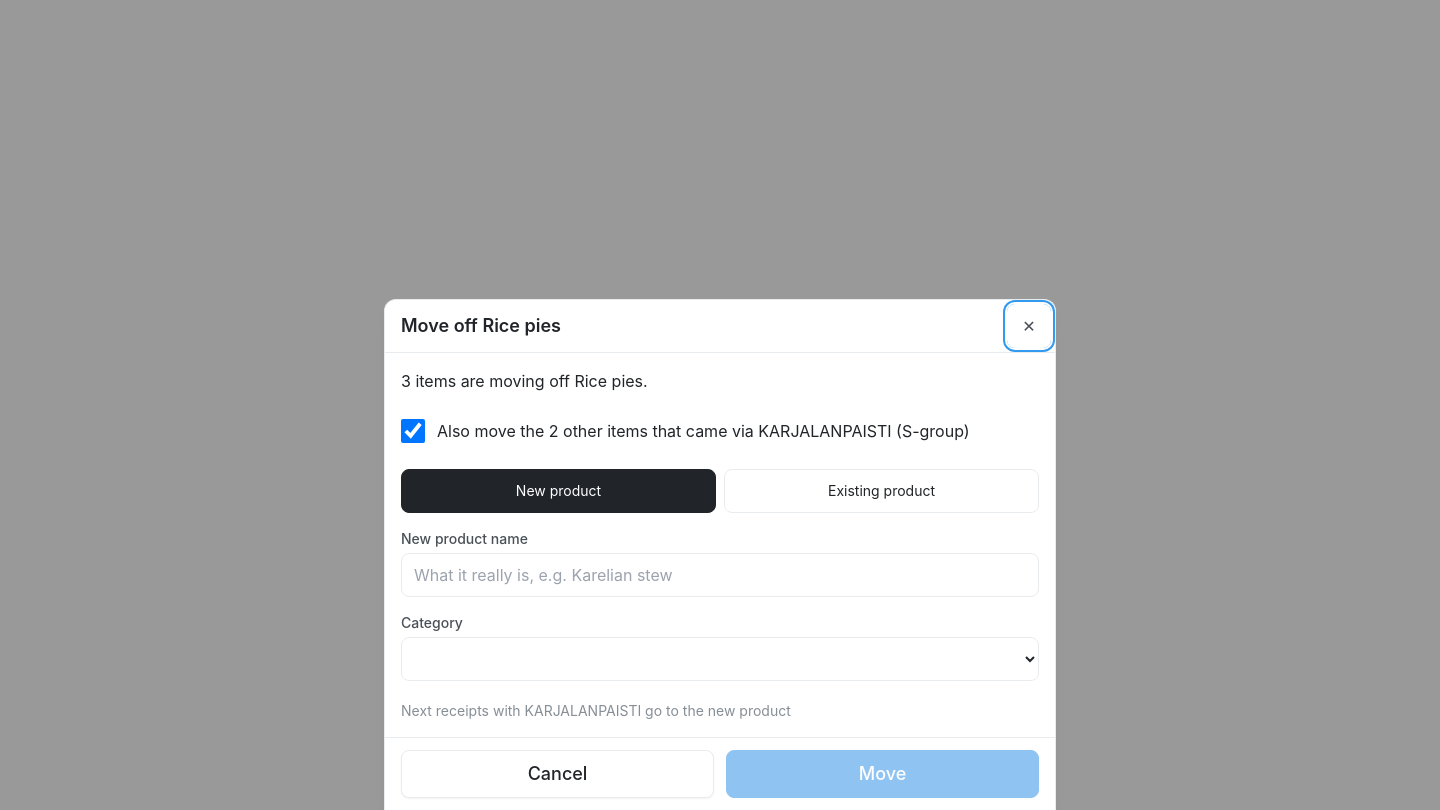
Test: SplitSheet › moves to an existing product picked with the product search
The width and height of the screenshot is (1440, 810).
Click the radio button labelled "Existing product": coordinates (882, 491) [724, 469, 1039, 513]
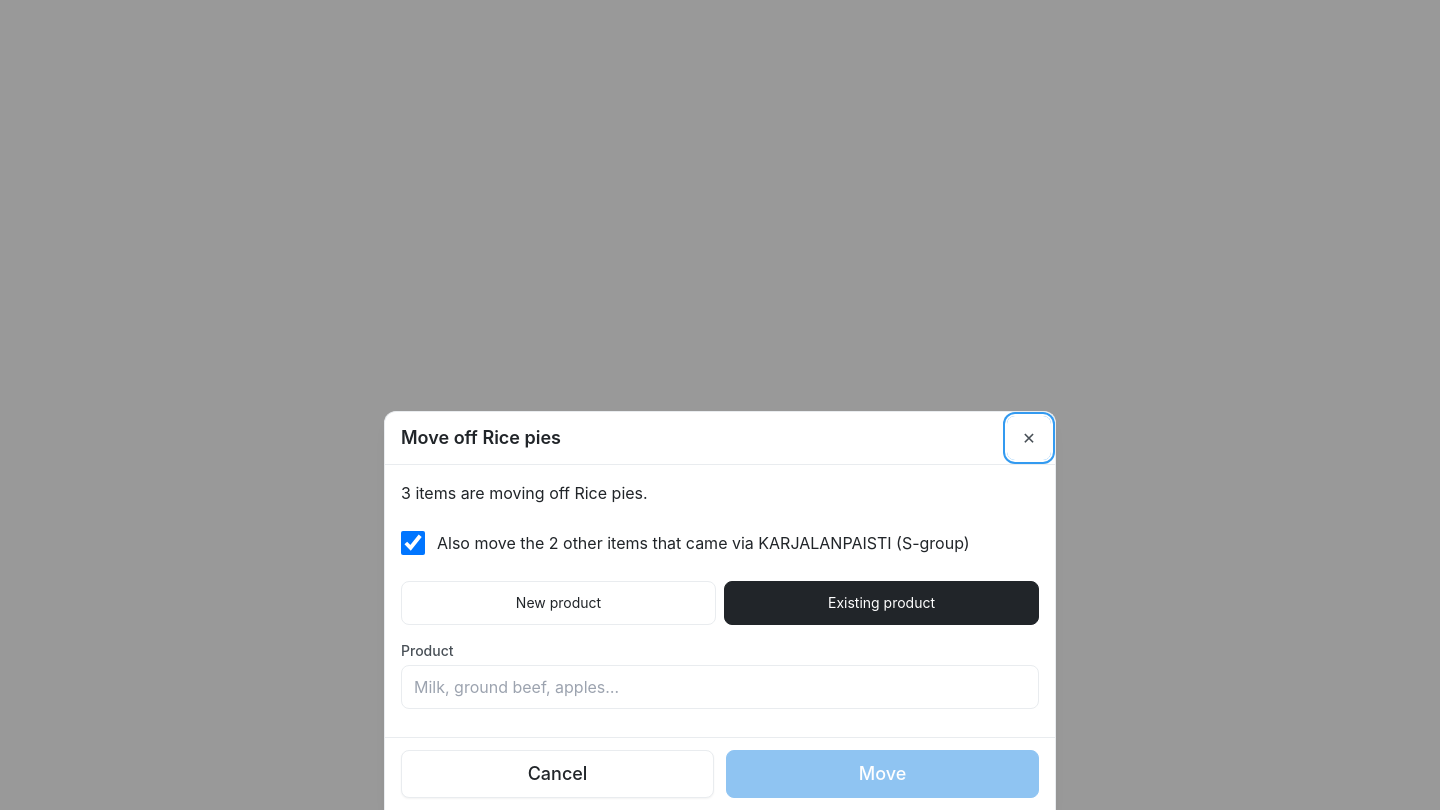
In the search field labelled "Product": coordinates (720, 687) [401, 665, 1039, 709], type "pie"
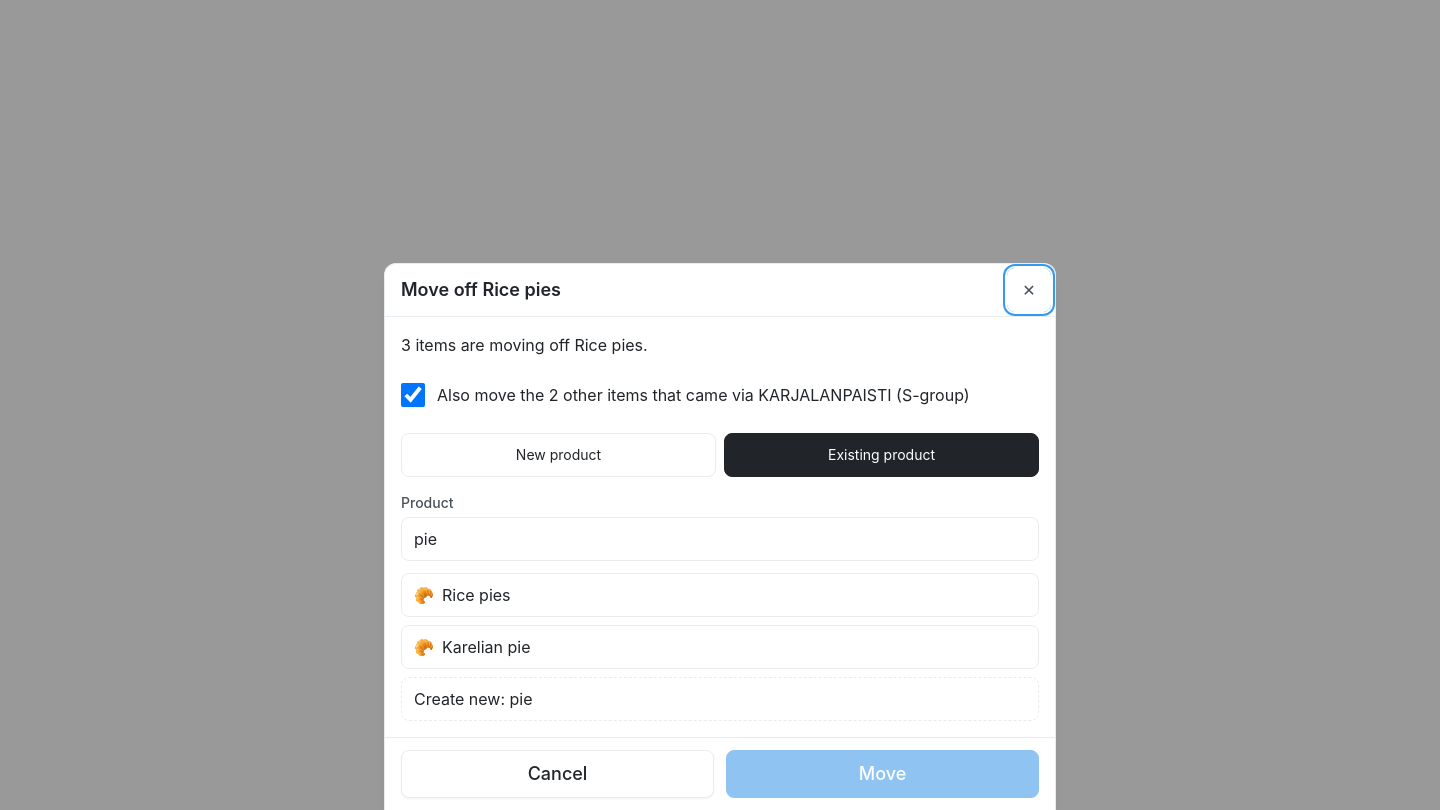
Click the button "🥐 Karelian pie": coordinates (486, 647) [401, 625, 1039, 669]
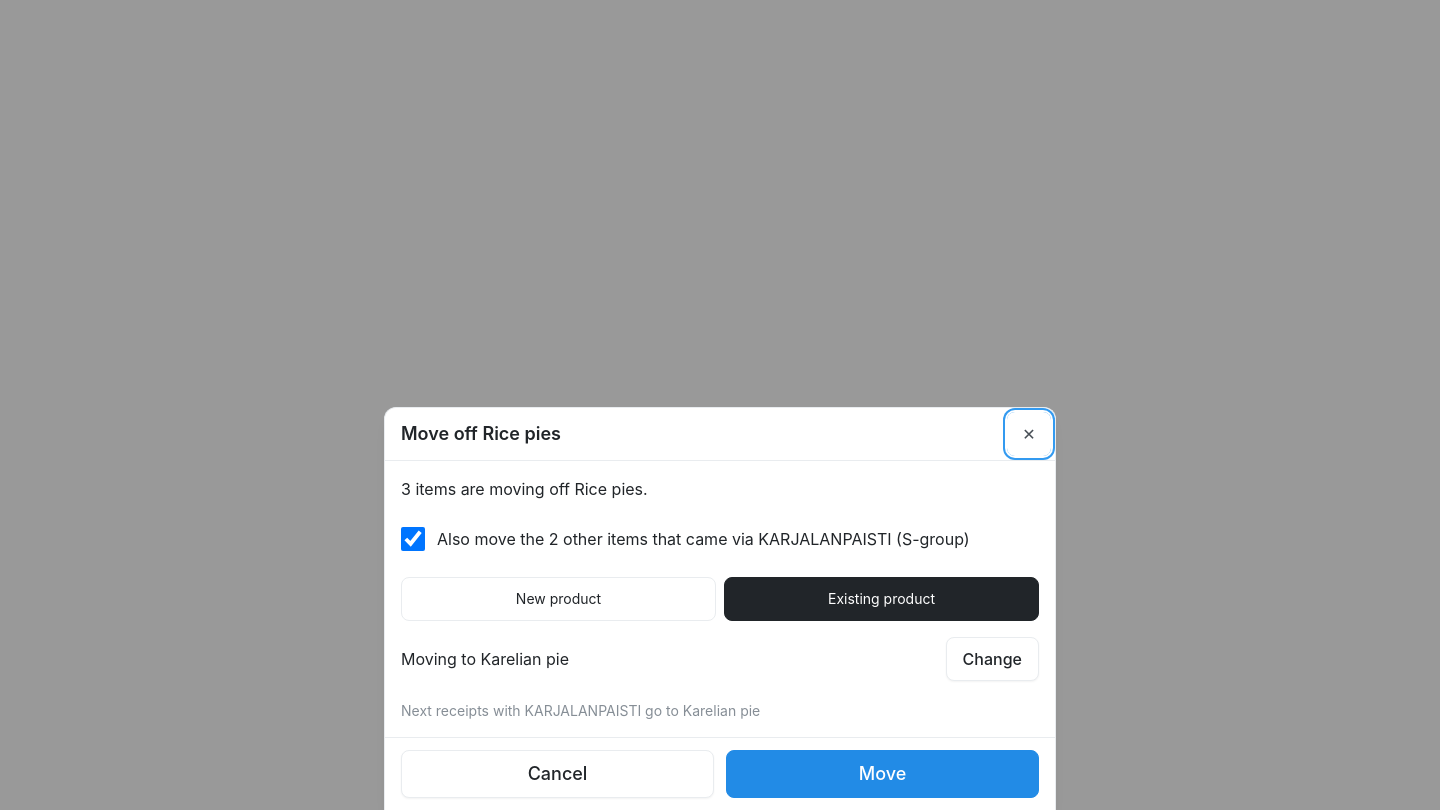
Expected: the text "Moving to Karelian pie" is shown, [401, 647, 569, 671]
Expected: the text "Next receipts with KARJALANPAISTI go to Karelian pie" is shown, [401, 702, 760, 719]
Click the button "Move": coordinates (882, 774) [726, 750, 1039, 798]
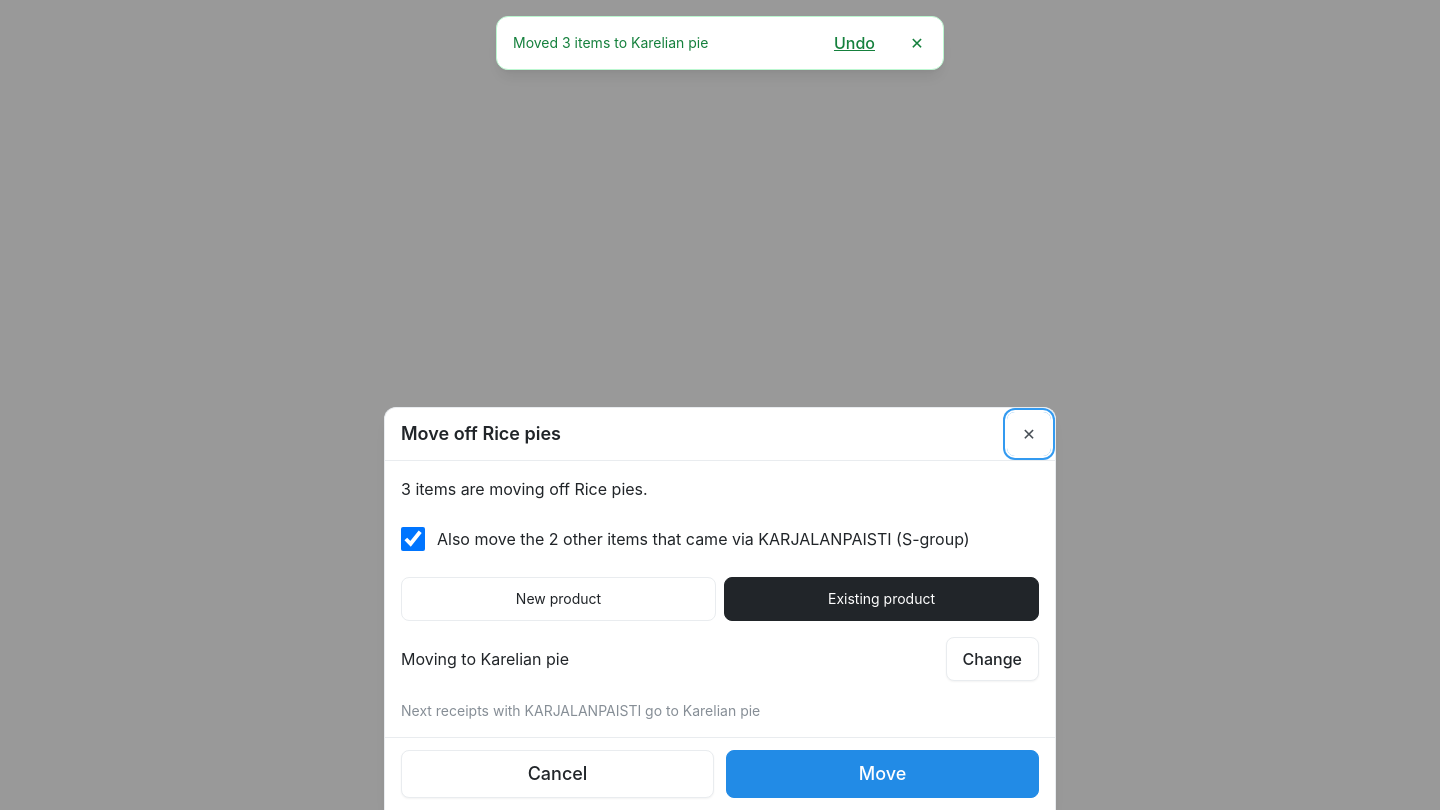
Expected: the text "Moved 3 items to Karelian pie" is shown, [513, 34, 708, 51]
